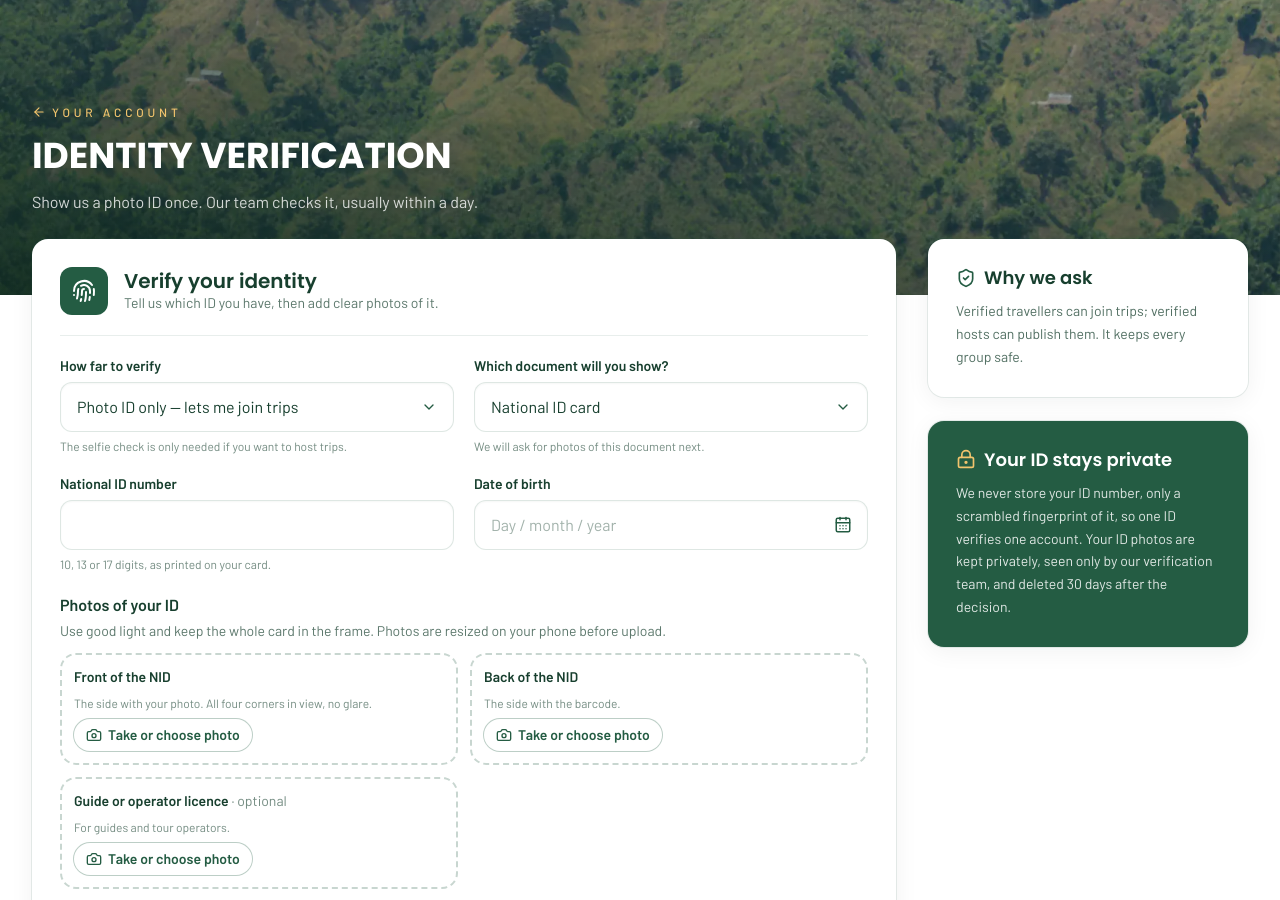
Test: VerificationPage › asks for the passport photo page instead when a passport is chosen
This screenshot has width=1280, height=900.
Click the dropdown named "Which document will you show?" at point(546, 406), box left=474, top=382, right=868, bottom=432
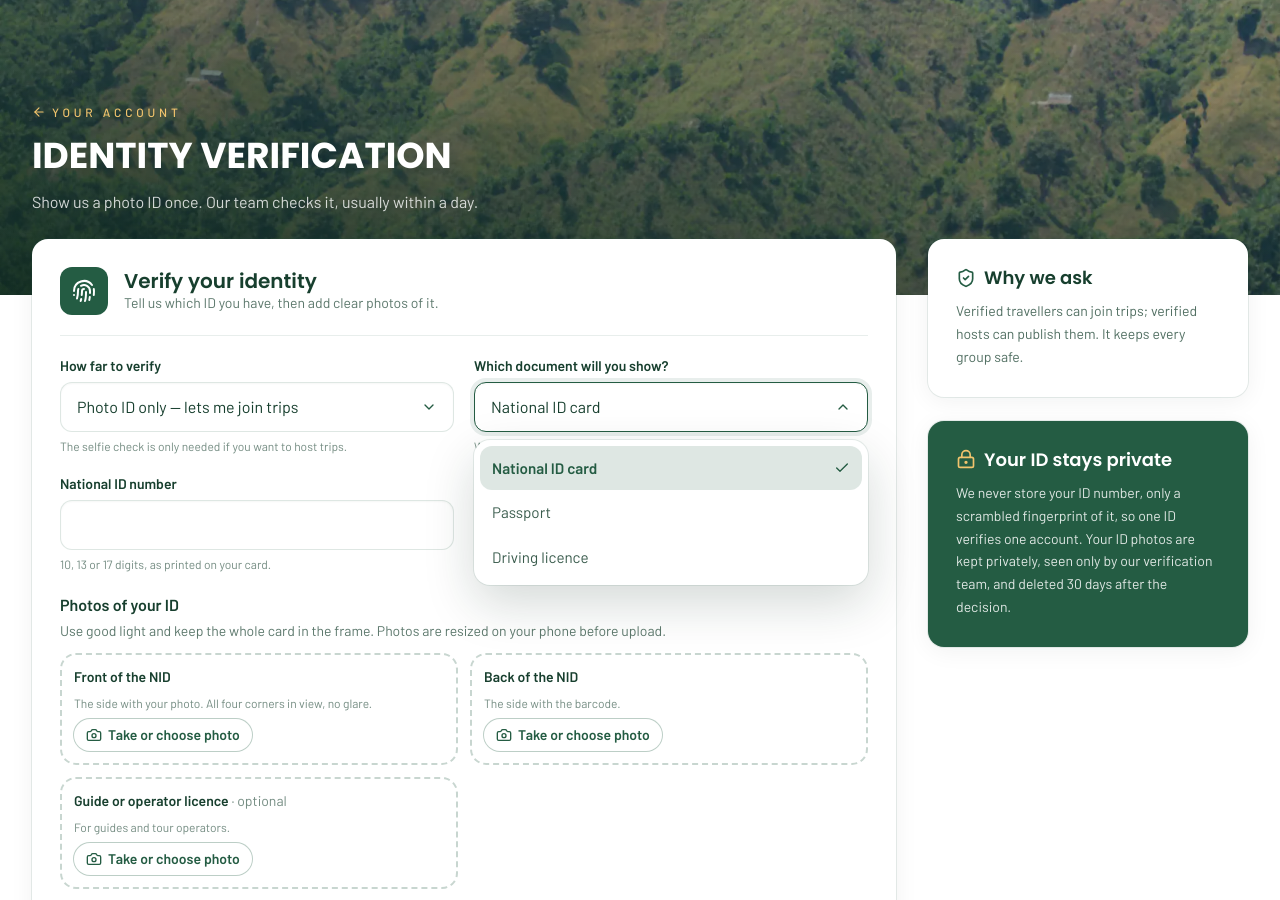
Click the option "Passport" at point(521, 512), box left=492, top=503, right=551, bottom=521
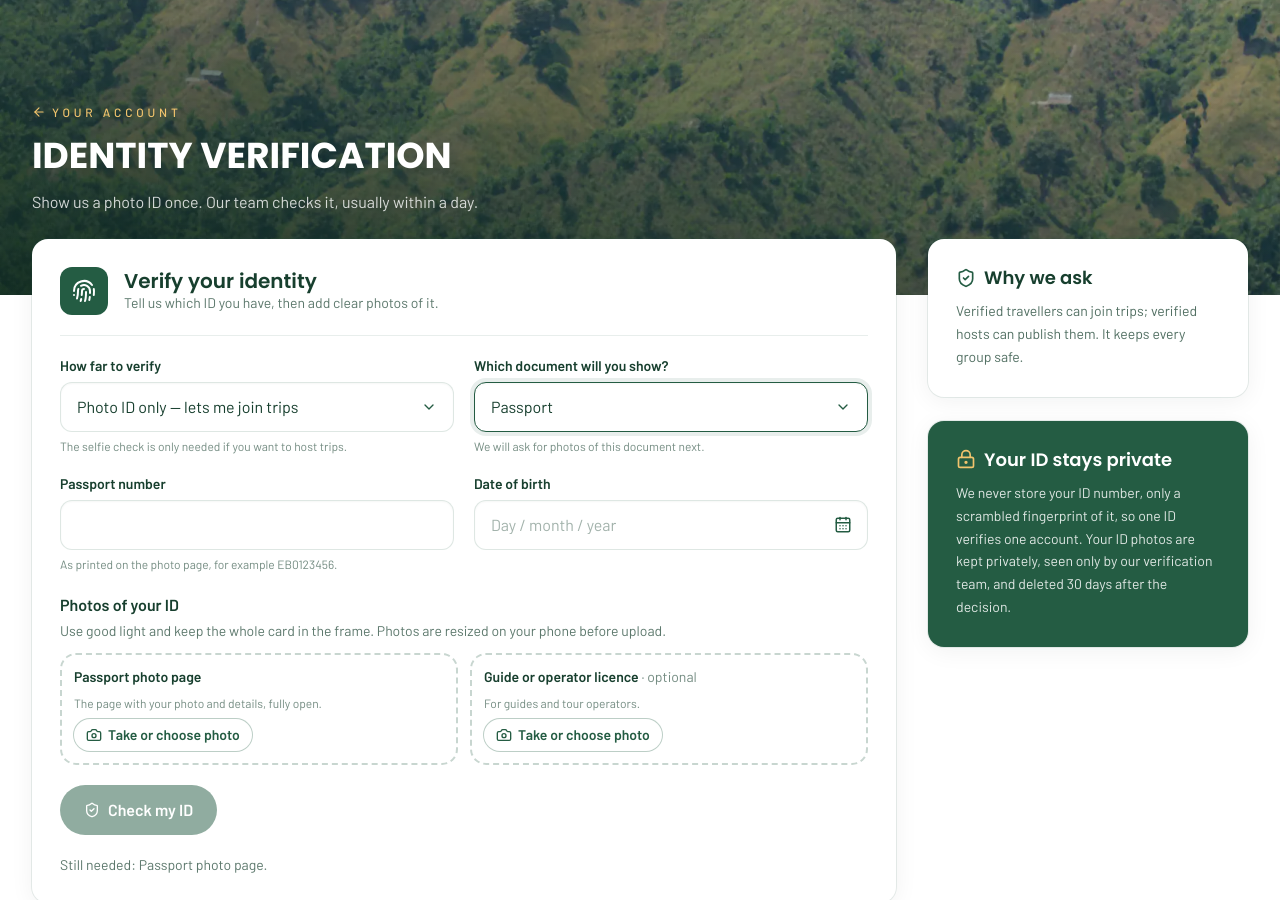
Expected: the field labelled "Passport number" is shown, left=60, top=500, right=454, bottom=550
Expected: the file field "Passport photo page" is shown, left=74, top=667, right=202, bottom=687
Expected: the file field "Front of the NID" is gone
